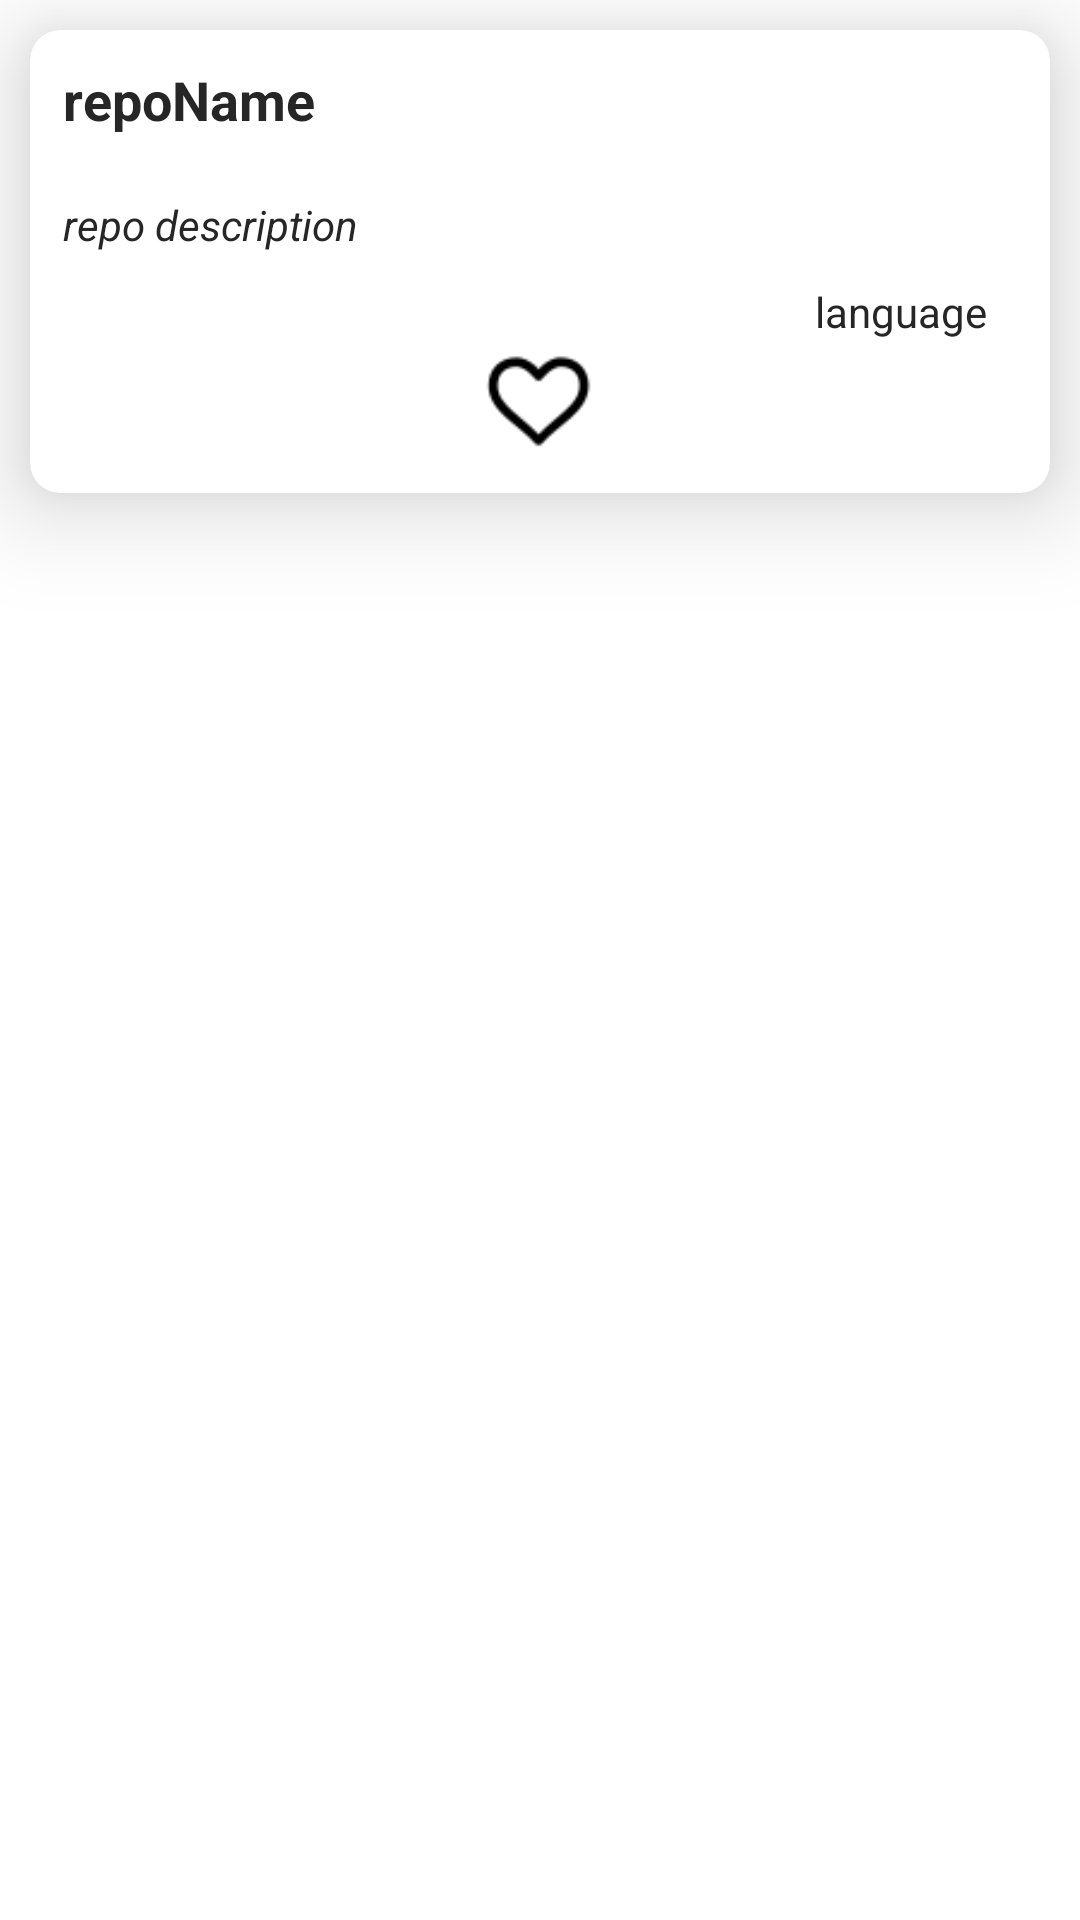

Named icons in this screenshot (1080w x 1920h) and their bounding boxes, (x1, y1, x2, y2):
Liked/Not-liked repository: (487, 356, 591, 446)
